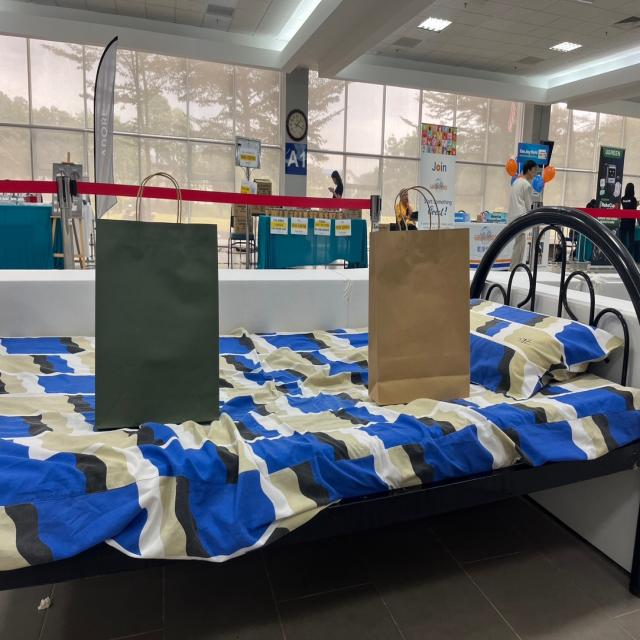bag: (90, 174, 219, 402), (368, 174, 468, 401)
